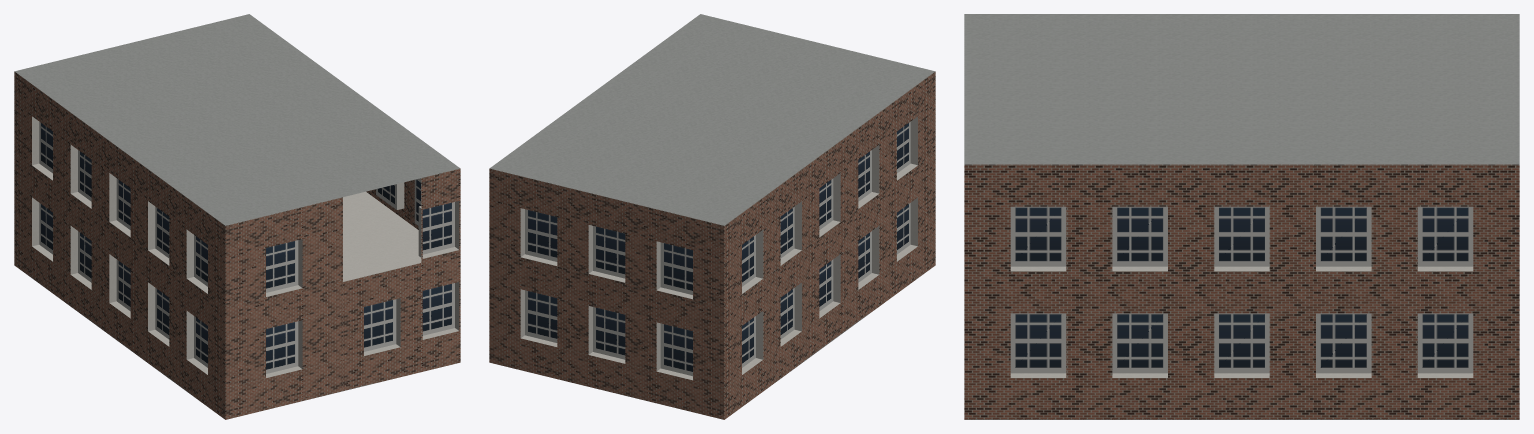
The model's file is bldg-merchant.glb.
3 views of the same model, side by side, from view 1: azimuth 30°, elevation 25°; view 2: azimuth 150°, elevation 25°; view 3: azimuth 270°, elevation 25° (orthographic). The views are drawn at different scales.
Visible parts, largest first — view 1: bldg-merchant; view 2: bldg-merchant; view 3: bldg-merchant.
Part boxes in pixels (bbox=[...]): bldg-merchant: bbox=[14, 14, 460, 419]; bldg-merchant: bbox=[489, 14, 935, 419]; bldg-merchant: bbox=[964, 14, 1519, 419].
Size of the model in its own units: 9 by 7.1 by 14.
Materials: 4 (4 with a texture image).
